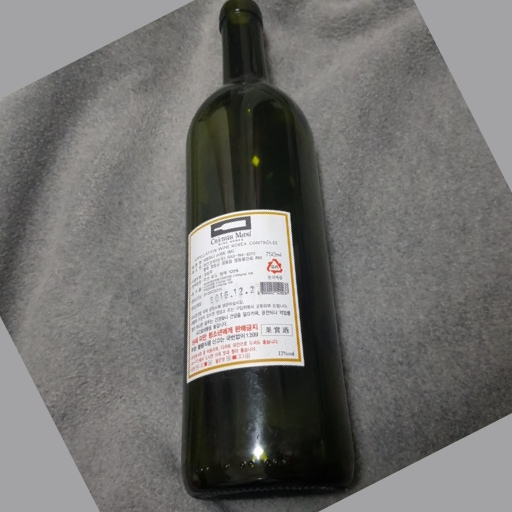Glass_2: (179, 3, 361, 500)
